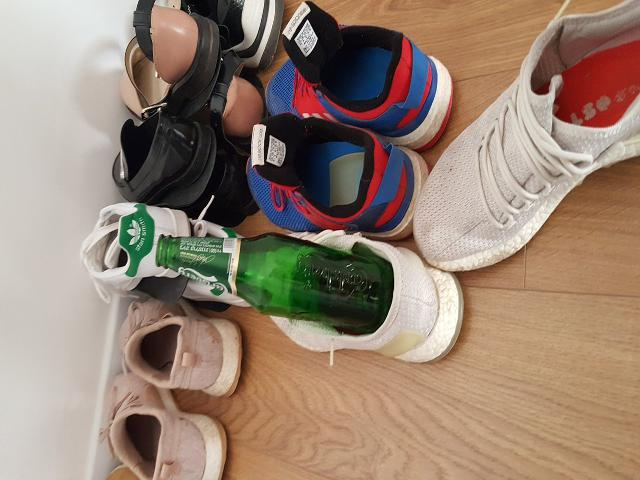beer: (158, 231, 392, 332)
